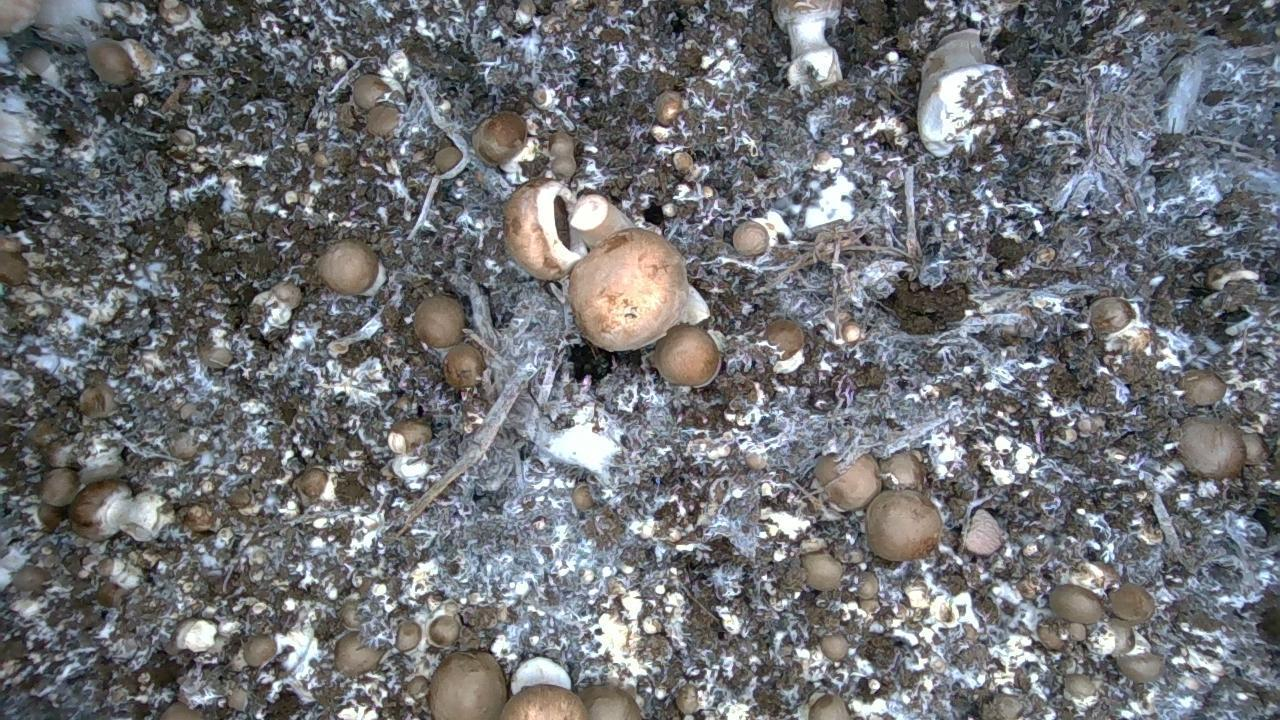BB: (568, 227, 689, 352), (504, 179, 582, 281), (865, 490, 942, 562), (428, 652, 507, 720), (652, 324, 721, 387), (1178, 417, 1247, 480), (317, 239, 386, 296), (69, 479, 132, 541), (815, 454, 881, 511), (500, 684, 589, 720), (472, 112, 528, 166), (414, 295, 465, 348), (334, 631, 385, 678), (87, 38, 135, 86), (1049, 584, 1105, 625), (579, 685, 642, 720), (1109, 583, 1156, 625), (444, 343, 486, 389), (1090, 297, 1136, 337), (880, 451, 926, 490), (1179, 370, 1227, 407), (764, 319, 805, 362), (40, 468, 81, 508), (802, 553, 843, 591), (1116, 652, 1165, 683), (732, 221, 772, 257), (352, 74, 390, 111), (427, 613, 462, 648), (243, 634, 278, 668), (366, 103, 399, 138), (808, 694, 851, 720), (655, 91, 683, 126), (1242, 432, 1270, 465), (434, 145, 463, 174), (820, 633, 849, 662), (396, 620, 422, 652)
